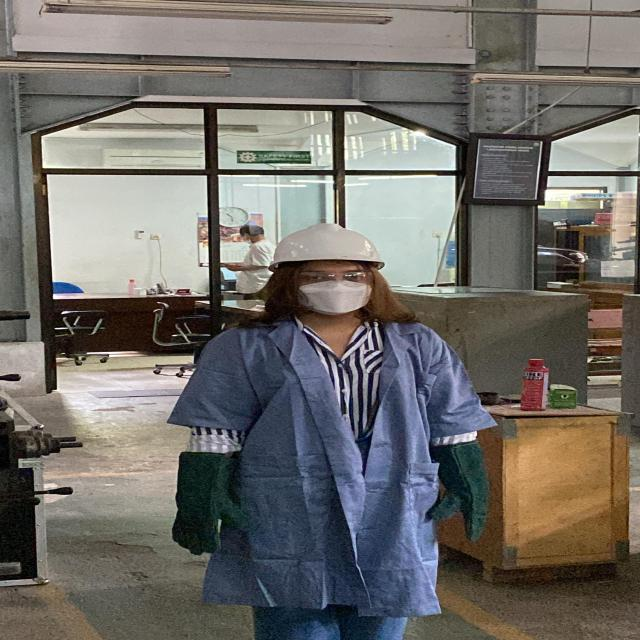glasses: (289, 268, 376, 288)
